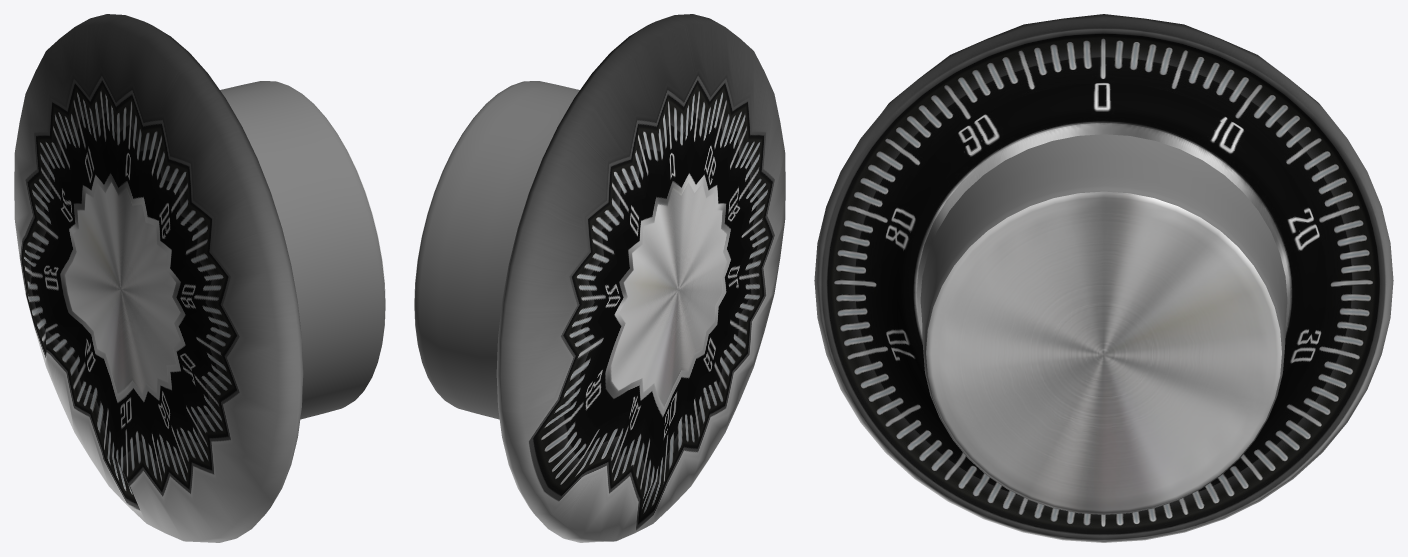
File: relay.fbx
3 views of the same model, side by side, from view 1: azimuth 30°, elevation 25°; view 2: azimuth 150°, elevation 25°; view 3: azimuth 270°, elevation 25° (orthographic). The views are drawn at different scales.
Visible parts, largest first — view 1: dial_right, dial_right.001; view 2: dial_right, dial_right.001; view 3: dial_right, dial_right.001.
Part boxes in pixels (<box>): dial_right: <box>14,14,303,542</box>; dial_right.001: <box>220,81,385,419</box>; dial_right: <box>496,14,785,542</box>; dial_right.001: <box>414,81,579,419</box>; dial_right: <box>814,14,1393,542</box>; dial_right.001: <box>916,123,1291,514</box>.
Size of the model in its own units: 2 by 5.09 by 5.09.
